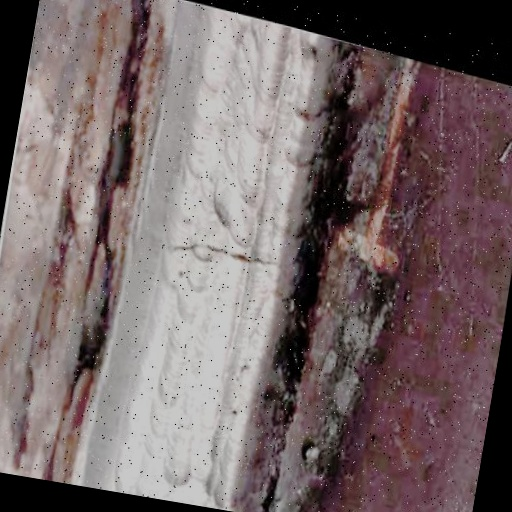crack: (160, 225, 288, 288)
